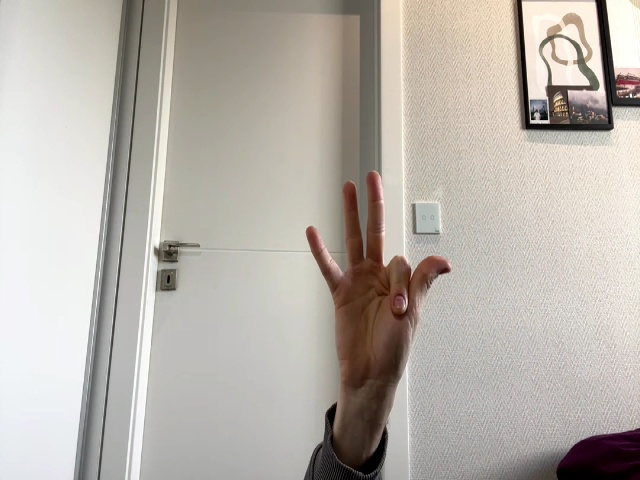F: (307, 170, 452, 353)
